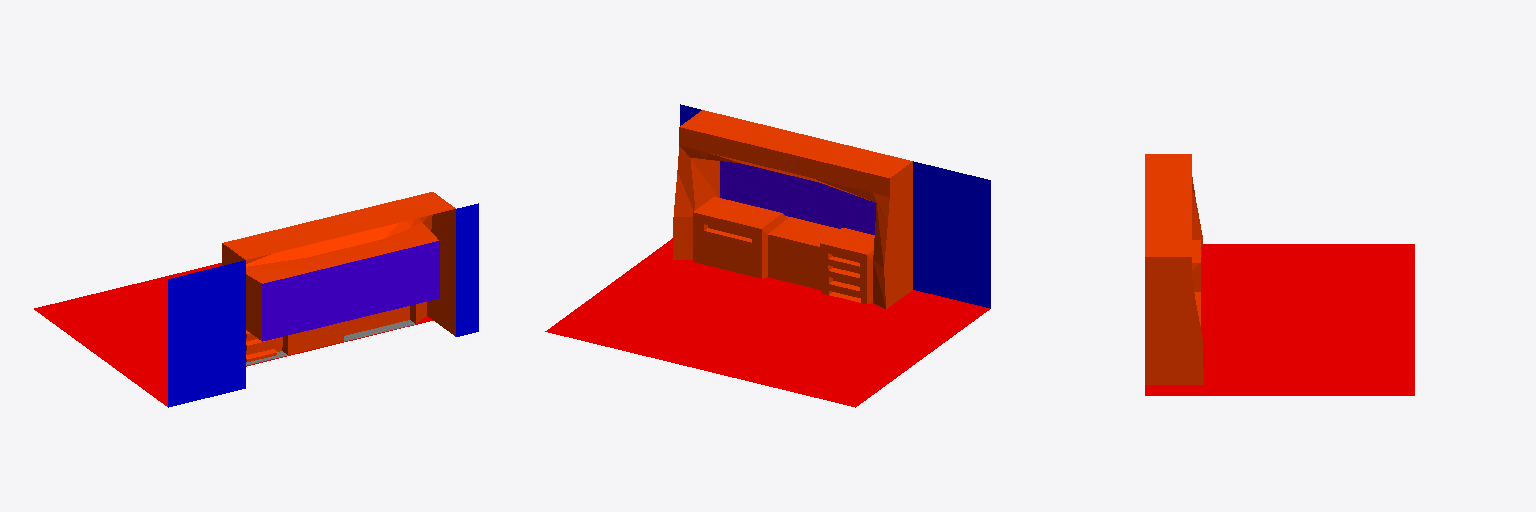
Rendered from StarshipForPainter.obj.
The picture shows the model from 3 angles: view 1: azimuth 30°, elevation 25°; view 2: azimuth 150°, elevation 25°; view 3: azimuth 270°, elevation 25°; orthographic projection.
Parts seen in each view (by area): view 1: space_ship_room; view 2: space_ship_room; view 3: space_ship_room.
Part boxes in pixels (left/top/right/bottom): space_ship_room: left=34, top=192, right=478, bottom=407; space_ship_room: left=545, top=104, right=990, bottom=407; space_ship_room: left=1145, top=154, right=1414, bottom=395.
Size of the model in its own units: 23.72 by 9.37 by 17.85.